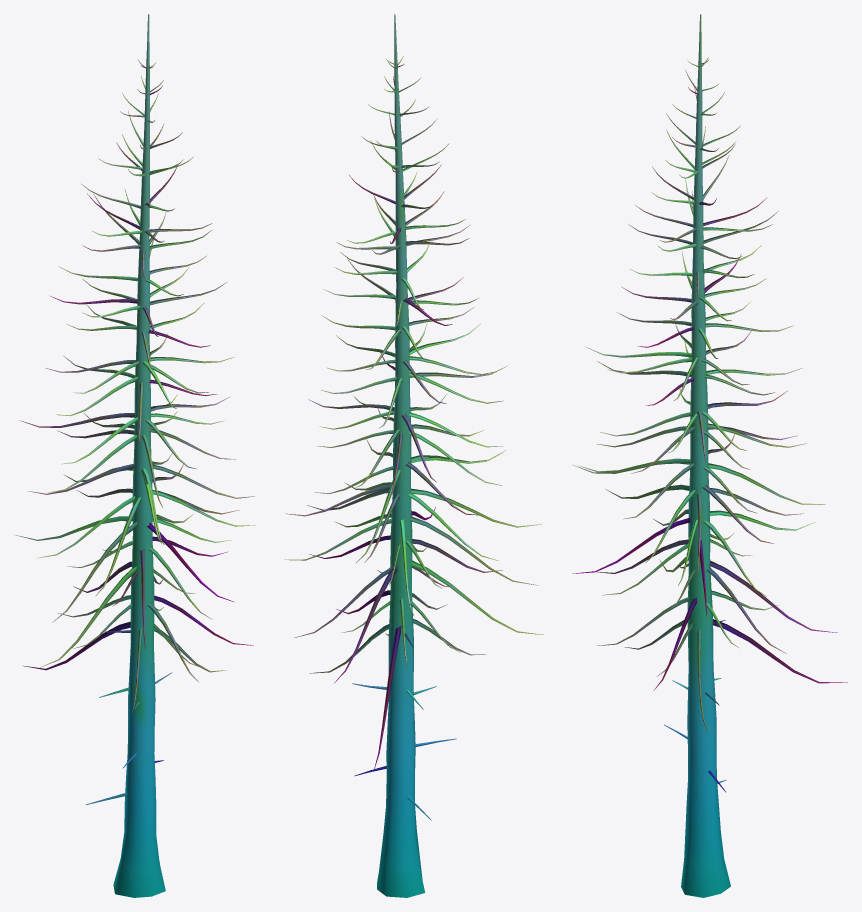
Rendered from spruce-old-a.glb.
3 views of the same model, side by side, from view 1: azimuth 30°, elevation 25°; view 2: azimuth 150°, elevation 25°; view 3: azimuth 270°, elevation 25° (orthographic).
Parts seen in each view (by area): view 1: bark; view 2: bark; view 3: bark.
Part boxes in pixels (x1,y1,x2,y2): bark: [15, 14, 255, 897]; bark: [284, 14, 543, 897]; bark: [572, 14, 847, 897].
Bounding box in the file's own units: 8.25 × 31.45 × 8.98.
